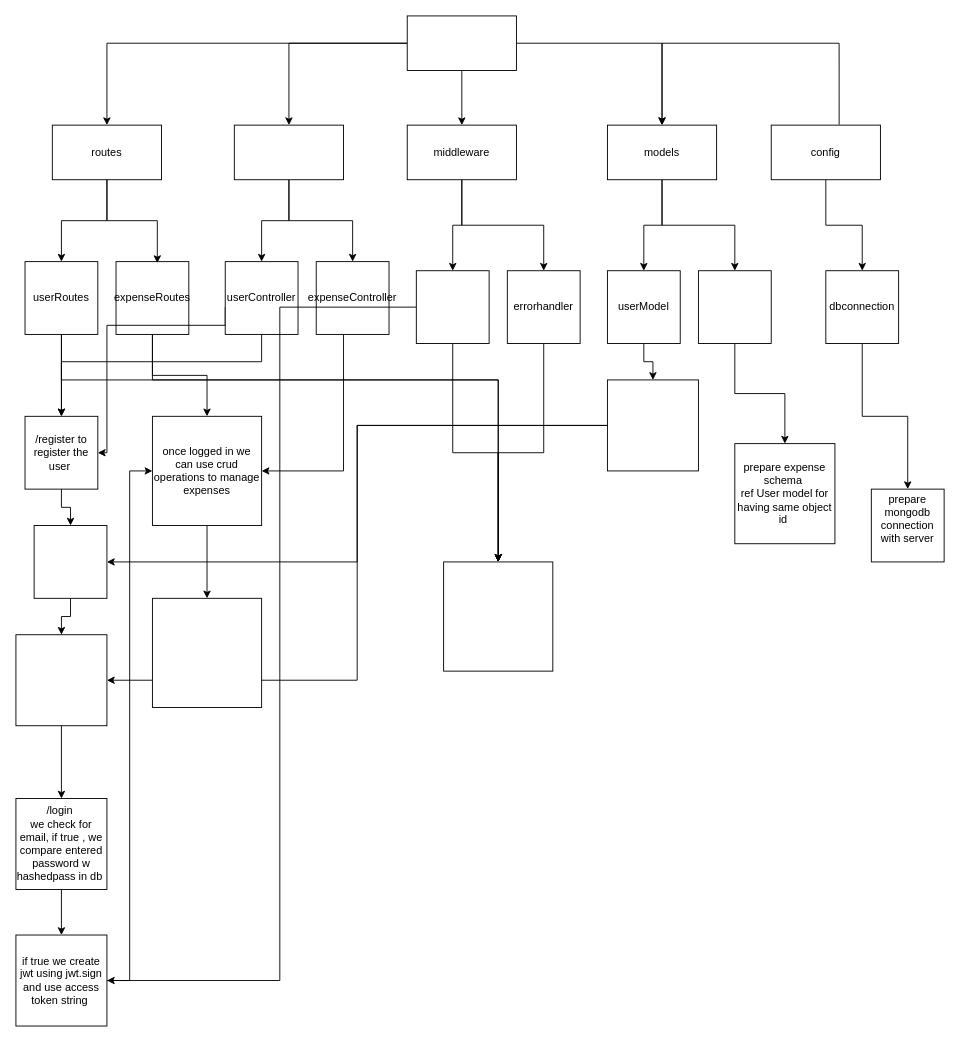
The diagram is 960 pixels wide and 1042 high, and some of its shapes have lost their labels. The box of each missing label's shape, as (x1, y1, x2, y2) in pixels:
controllers: (233, 124, 344, 180)
cross check using User model: (33, 525, 107, 598)
expenseModel: (698, 270, 771, 344)
myexpense-app: (406, 15, 516, 71)
server.js here we call routes with middleware: (443, 561, 553, 671)
set up user schema , using mongoose, userid: (607, 379, 698, 471)
store the value in database using User model and .create: (15, 634, 107, 726)
Validationtoken: (415, 270, 489, 344)
we need to update in db at same time so use expensemodel schema for that: (152, 597, 262, 708)
